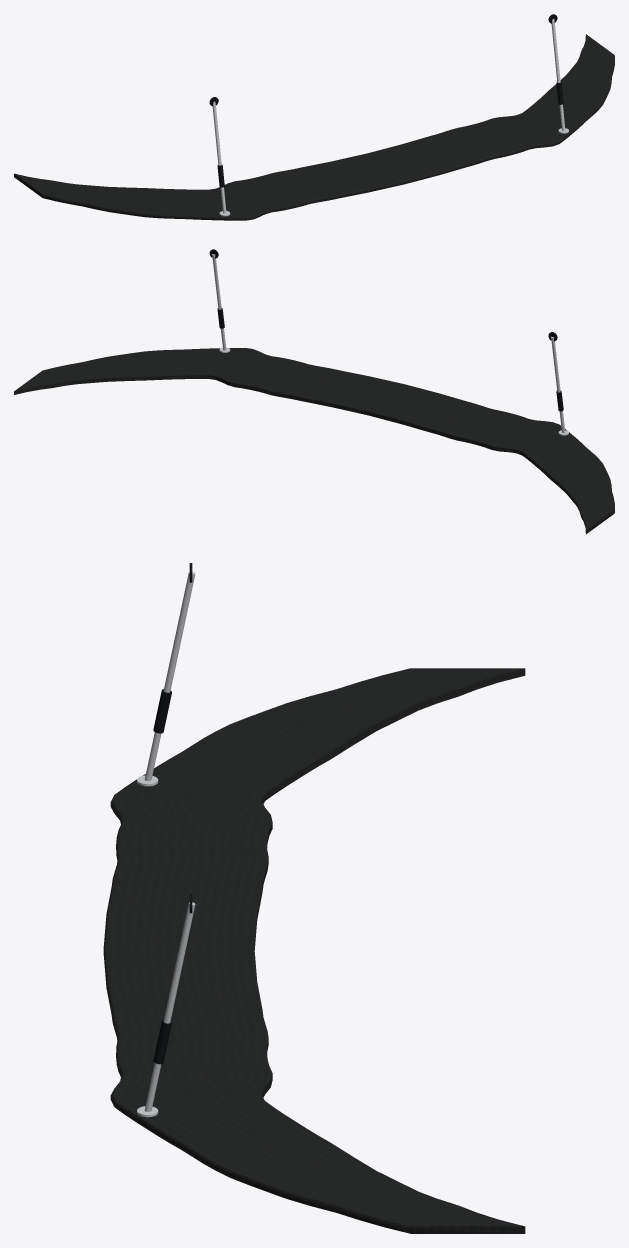
Rendered from FA03_race_splitter.glb.
3 renders of one model, top to bottom at view 1: azimuth 30°, elevation 25°; view 2: azimuth 150°, elevation 25°; view 3: azimuth 270°, elevation 25°, orthographic. The views are drawn at different scales.
Parts seen in each view (by area): view 1: MOD_ND_FA03_blade, MOD_ND_FA03_stay_1, MOD_ND_FA03_stay_neg1; view 2: MOD_ND_FA03_blade; view 3: MOD_ND_FA03_blade, MOD_ND_FA03_stay_1, MOD_ND_FA03_stay_neg1.
Boxes of the visible parts, x1,y1,x2,y2 form: MOD_ND_FA03_blade: (14, 34, 614, 220); MOD_ND_FA03_stay_1: (551, 19, 565, 130); MOD_ND_FA03_stay_neg1: (212, 101, 226, 213); MOD_ND_FA03_blade: (14, 348, 614, 534); MOD_ND_FA03_blade: (103, 668, 525, 1233); MOD_ND_FA03_stay_1: (144, 902, 195, 1111); MOD_ND_FA03_stay_neg1: (144, 571, 195, 781).
Size of the model in its own units: 1.62 by 0.305 by 0.5173.
Materials: 3 (1 with a texture image).
